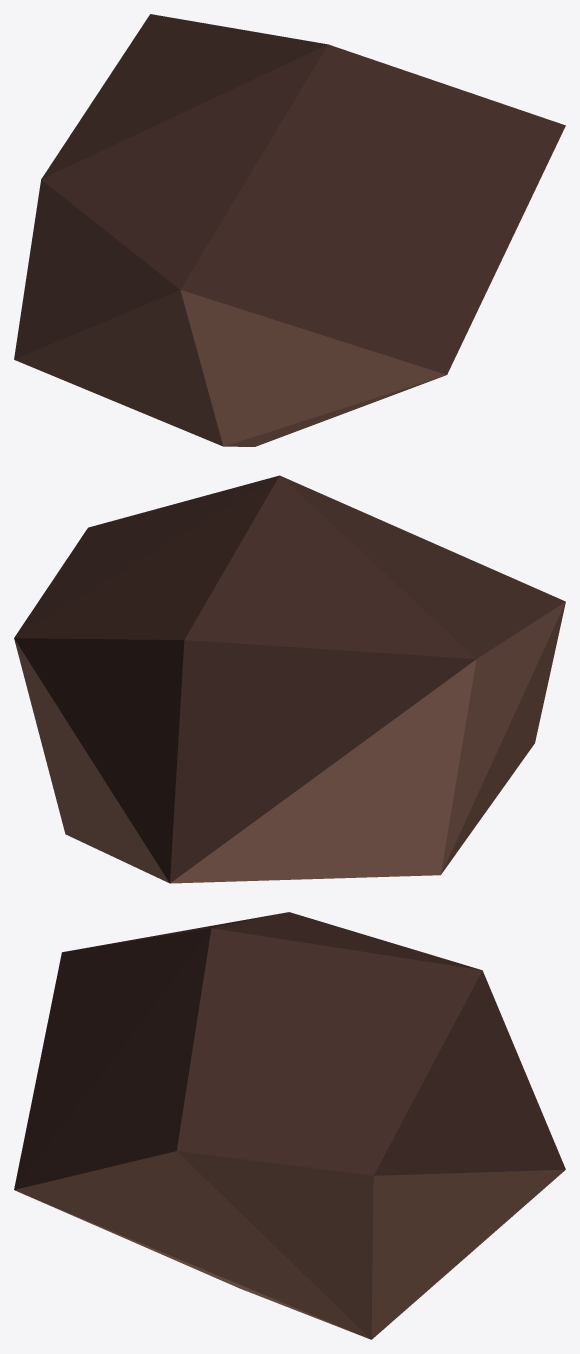
Rendered from Brown_stone_001.fbx.
The picture shows the model from 3 angles, top to bottom: view 1: azimuth 30°, elevation 25°; view 2: azimuth 150°, elevation 25°; view 3: azimuth 270°, elevation 25°; orthographic projection. The views are drawn at different scales.
Parts seen in each view (by area): view 1: Brown_stone_001; view 2: Brown_stone_001; view 3: Brown_stone_001.
Part boxes in pixels (x1,y1,x2,y2): Brown_stone_001: (14,14,565,446); Brown_stone_001: (14,475,565,883); Brown_stone_001: (14,912,565,1339).
Size of the model in its own units: 43.5 by 45.74 by 35.49.
